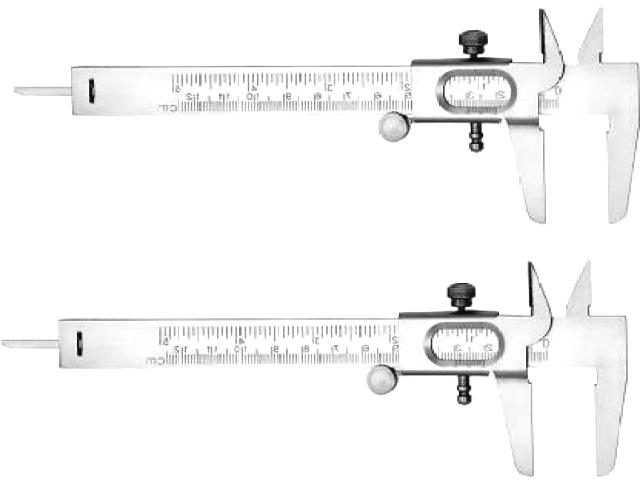Calipers: (11, 9, 640, 222), (1, 262, 628, 475)
